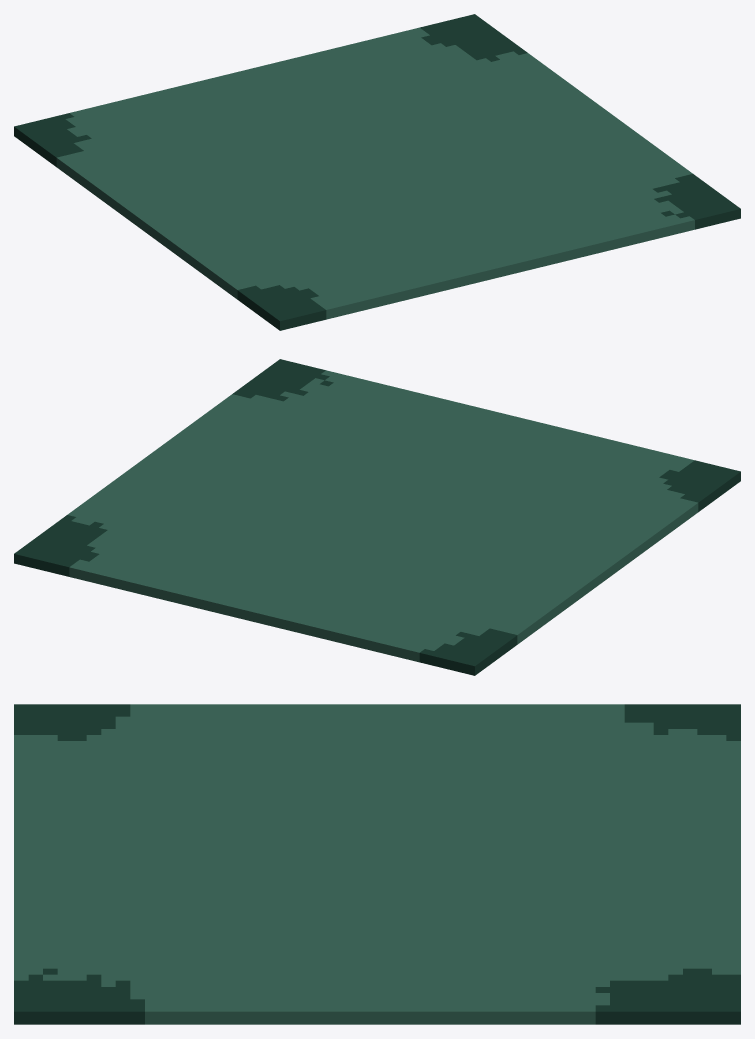
Rendered from FourGround.obj.
3 views of the same model, one above another, from view 1: azimuth 30°, elevation 25°; view 2: azimuth 150°, elevation 25°; view 3: azimuth 270°, elevation 25° (orthographic). The views are drawn at different scales.
Bounding box in the file's own units: 5 × 0.1 × 5.
Materials: 1 (1 with a texture image).
